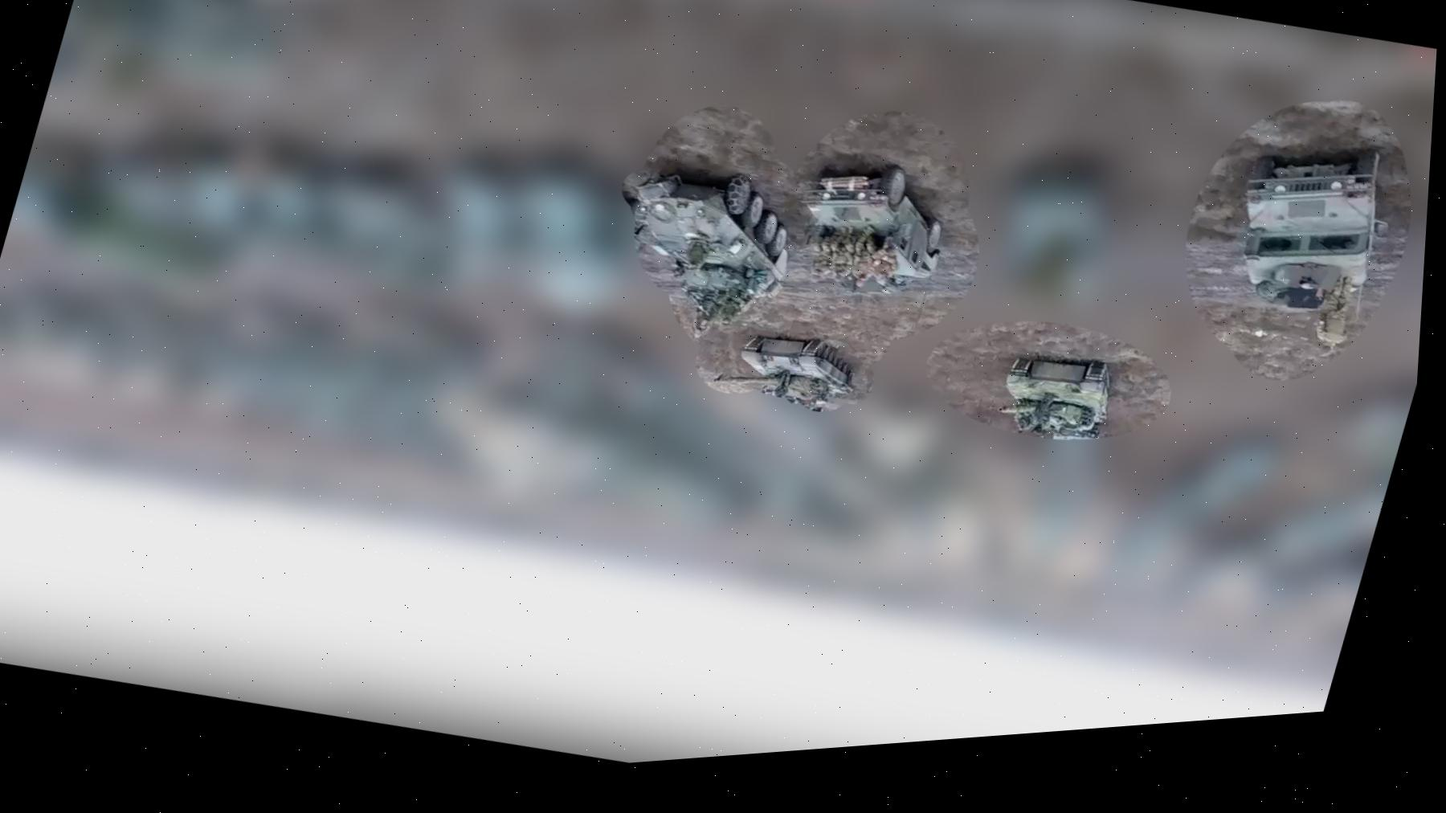armored_car: (600, 143, 815, 333), (1213, 123, 1402, 336), (775, 140, 967, 313)
tank: (987, 332, 1131, 456), (728, 318, 866, 425)
